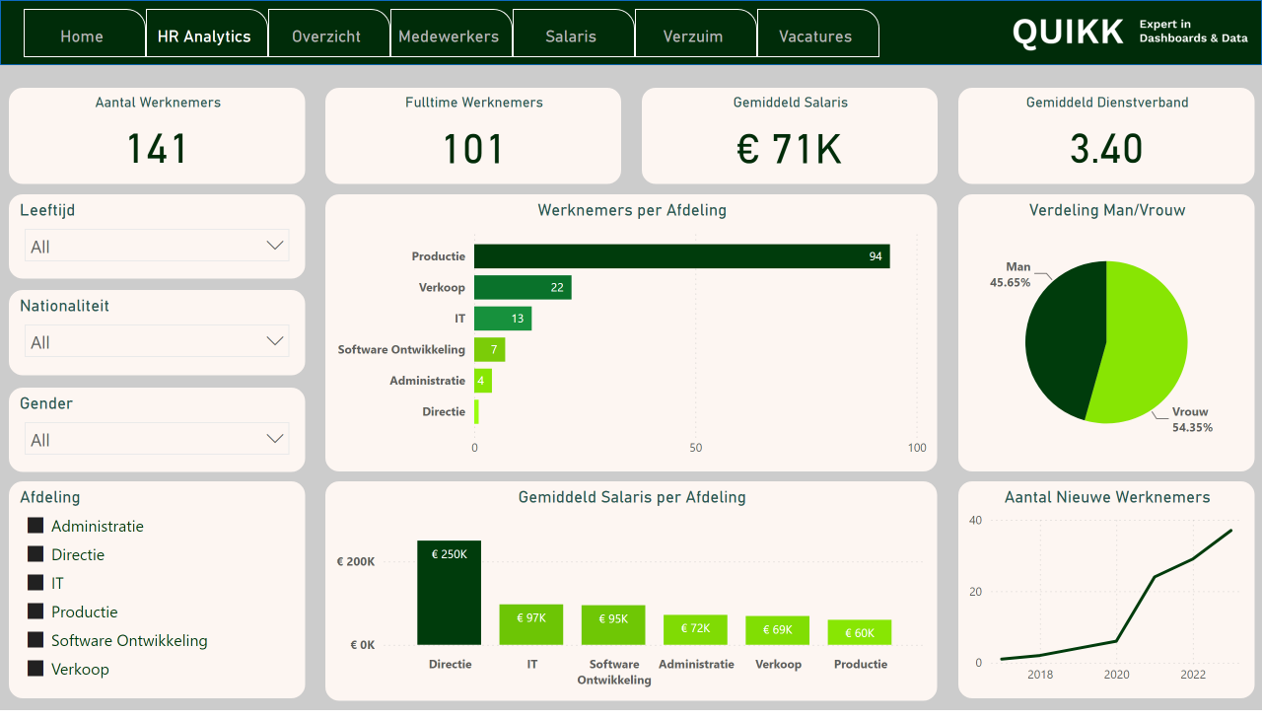

The page's visual inventory and layout, read from the dashboard file:
{"tool":"powerbi","page":{"name":"Overzicht","canvas":[1280,720],"ordinal":0},"visuals":[{"type":"columnChart","title":"Leeftijdsverdeling","fields":{"Y":["CountNonNull(hr dataset 4.EmpID)"],"Category":["hr dataset 4.Leeftijd Groep"]},"box":[329.7,478.5,620.5,219.8],"z":0},{"type":"card","title":"Aantal Werknemers","fields":{"Values":["CountNonNull(hr dataset 4.EmpID)"]},"box":[8.8,79.8,300.5,97.3],"z":1000},{"type":"card","title":"Gemiddeld Salaris","fields":{"Values":["Avg(hr dataset 4.Salary)"]},"box":[650.9,79.5,300,97.6],"z":2000},{"type":"pieChart","title":"Verdeling Man/Vrouw","fields":{"Y":["CountNonNull(hr dataset 4.EmpID)"],"Category":["hr dataset 4.Gender"]},"box":[971.7,187.7,300.5,281.1],"z":3000},{"type":"card","title":"Gemiddelde Leeftijd","fields":{"Values":["Avg(hr dataset 4.Leeftijd)"]},"box":[553,244,235.6,97.6],"z":4000},{"type":"lineChart","title":"Aantal Nieuwe Werknemers","fields":{"Category":["Date.Date.Variation.Date Hierarchy.Year"],"Y":["Sum(hr dataset 4.Actieve Werknemers)"]},"box":[971.7,478.6,300.5,219.8],"z":5000},{"type":"shape","box":[0,0,1280,66.1],"z":6000},{"type":"barChart","title":"Werknemers per Afdeling","fields":{"Category":["hr dataset 4.Afdeling"],"Y":["CountNonNull(hr dataset 4.EmpID)"]},"box":[329.7,187.7,620.5,281.1],"z":7000},{"type":"card","title":"Gemiddeld Dienstverband","fields":{"Values":["Avg(hr dataset 4.Gemiddeld Dienstverband)"]},"box":[971.7,79.8,300.5,97.3],"z":8000},{"type":"slicer","title":"Afdeling","fields":{"Values":["hr dataset 4.Afdeling"]},"box":[8.8,478.6,300.5,219.8],"z":9000},{"type":"slicer","title":"Gender","fields":{"Values":["hr dataset 4.Gender"]},"box":[8.8,383.2,300.5,85.6],"z":10000},{"type":"slicer","title":"Nationaliteit","fields":{"Values":["hr dataset 4.CitizenDesc"]},"box":[8.8,284,300.5,86.6],"z":11000},{"type":"slicer","title":"Leeftijd","fields":{"Values":["hr dataset 4.Leeftijd Groep"]},"box":[8.8,187.7,300.5,85.6],"z":12000},{"type":"card","title":"Fulltime Werknemers","fields":{"Values":["CountNonNull(hr dataset 4.WorkStatus)"]},"box":[330.1,79.3,300,97.6],"z":13000},{"type":"image","box":[1018.4,1,255.8,65.2],"z":14000},{"type":"pageNavigator","box":[24.3,8.8,873.4,49.6],"z":15000}]}

Visuals, with their boxes in screenshot pixels (x1, y1, x2, y2), scaled from the page's 1280x720 canvas onto the 1262x720 screenshot:
"Leeftijdsverdeling" columnChart: crop(325, 478, 937, 698)
"Aantal Werknemers" card: crop(9, 80, 305, 177)
"Gemiddeld Salaris" card: crop(642, 80, 938, 177)
"Verdeling Man/Vrouw" pieChart: crop(958, 188, 1254, 469)
"Gemiddelde Leeftijd" card: crop(545, 244, 778, 342)
"Aantal Nieuwe Werknemers" lineChart: crop(958, 479, 1254, 698)
shape: crop(0, 0, 1261, 66)
"Werknemers per Afdeling" barChart: crop(325, 188, 937, 469)
"Gemiddeld Dienstverband" card: crop(958, 80, 1254, 177)
"Afdeling" slicer: crop(9, 479, 305, 698)
"Gender" slicer: crop(9, 383, 305, 469)
"Nationaliteit" slicer: crop(9, 284, 305, 371)
"Leeftijd" slicer: crop(9, 188, 305, 273)
"Fulltime Werknemers" card: crop(325, 79, 621, 177)
image: crop(1004, 1, 1256, 66)
pageNavigator: crop(24, 9, 885, 58)
